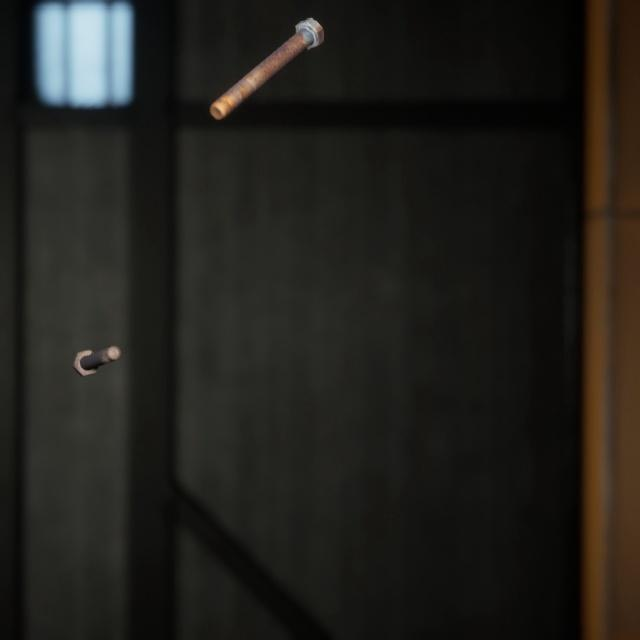bolt: (205, 3, 328, 112), (67, 322, 125, 363)
